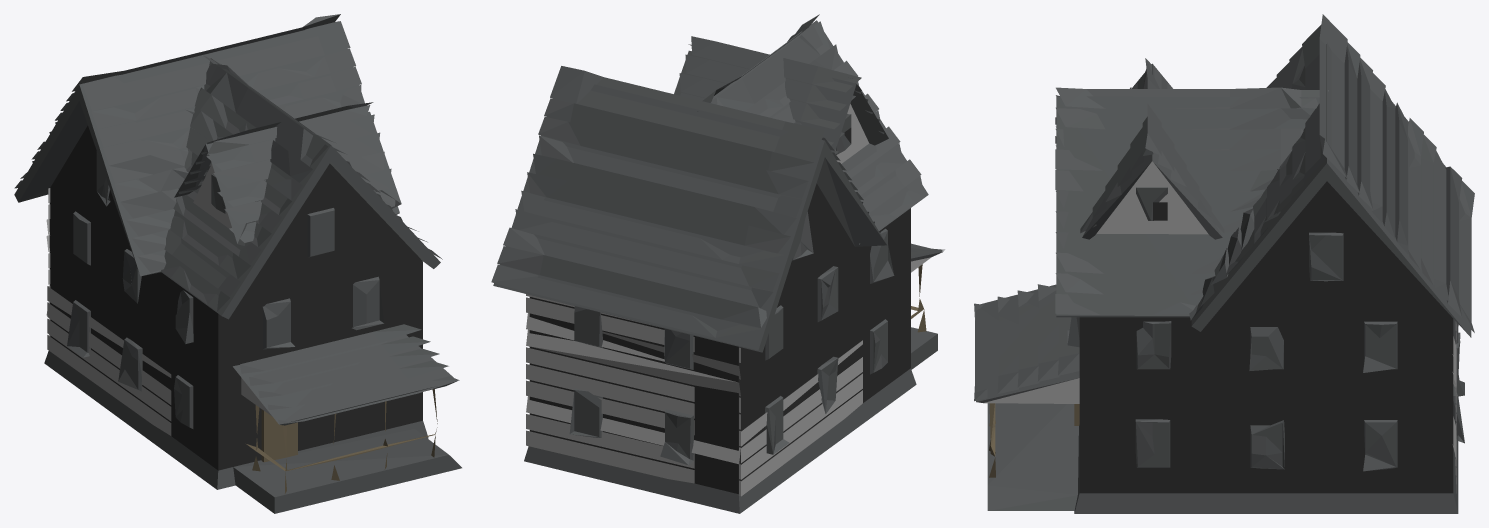
File: cottage1.glb
The picture shows the model from 3 angles, left to right: view 1: azimuth 30°, elevation 25°; view 2: azimuth 150°, elevation 25°; view 3: azimuth 270°, elevation 25°; orthographic projection. The views are drawn at different scales.
Visible parts, largest first — view 1: House1; view 2: House1; view 3: House1.
Boxes of the visible parts, x1=… form: House1: x1=14, y1=14, x2=461, y2=513; House1: x1=491, y1=14, x2=944, y2=513; House1: x1=974, y1=14, x2=1474, y2=513.
Bounding box in the file's own units: 2.56 × 3.18 × 3.85.
